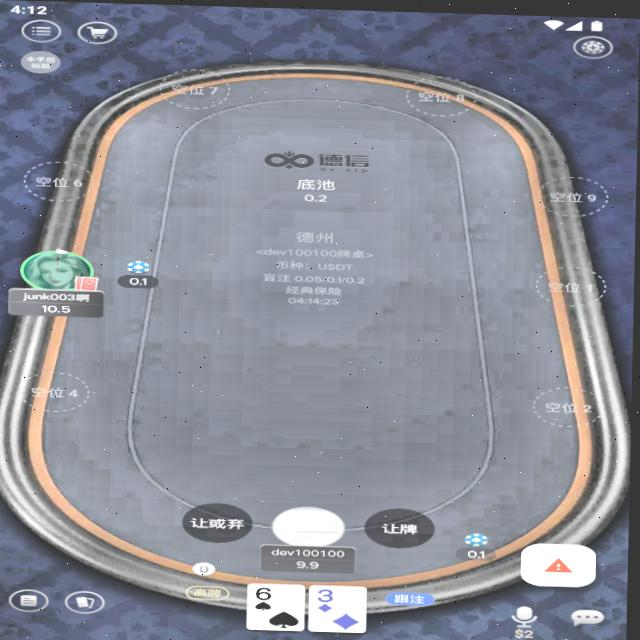3f: (318, 585, 340, 601)
6s: (256, 583, 279, 599)
